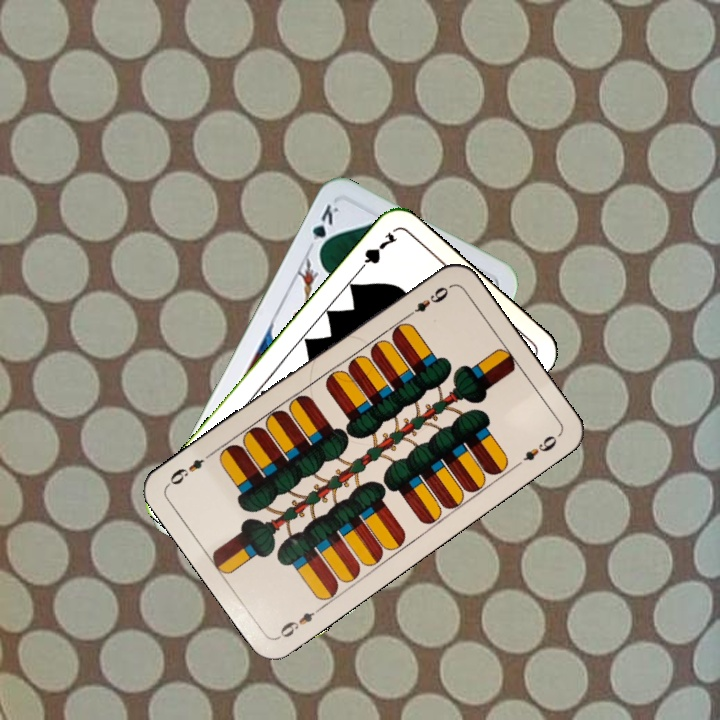E9: (401, 282, 453, 321), (274, 602, 326, 641)
G7: (352, 228, 400, 277)
GK: (306, 200, 341, 257)
